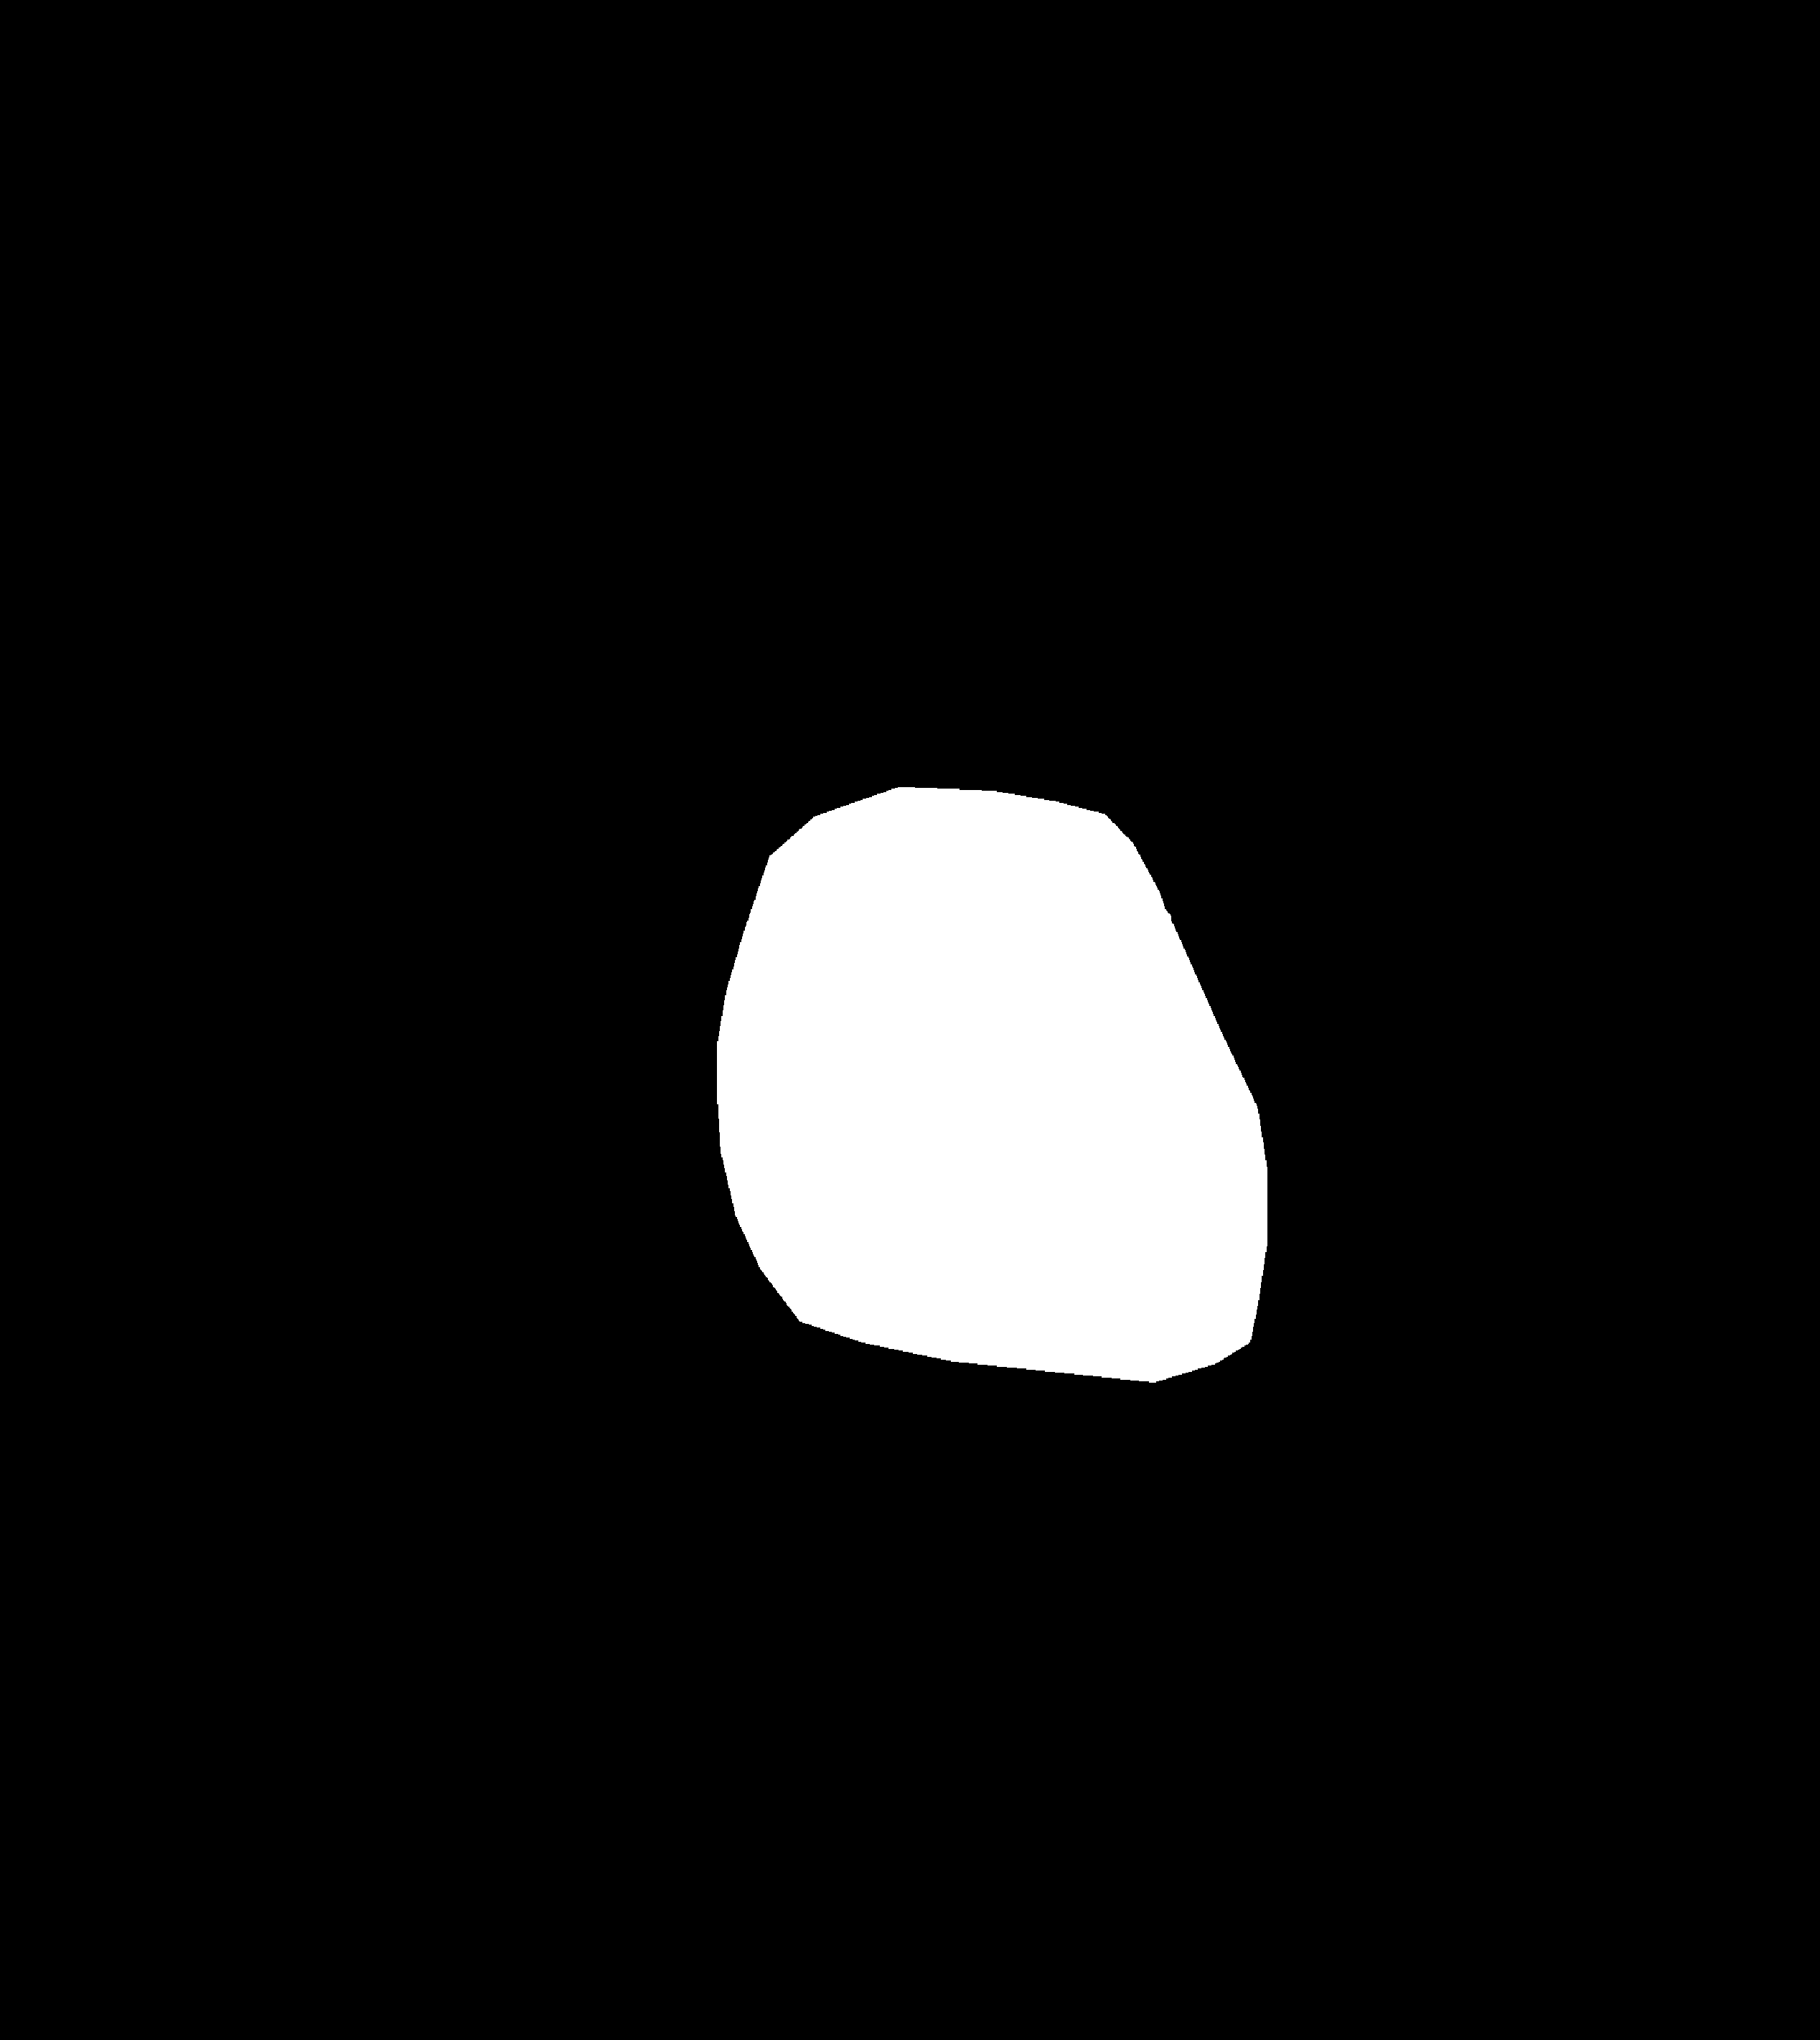heart: (713, 780, 1265, 1418)
left_lung: (258, 207, 789, 1495)
right_lung: (947, 220, 1499, 1543)
